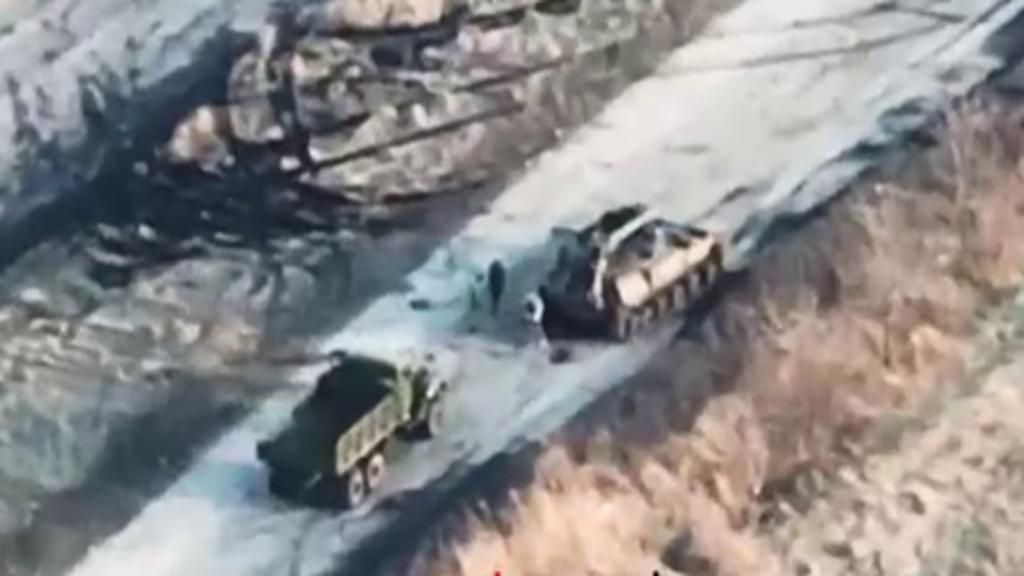APC-IFV: (534, 200, 720, 344)
TRUCK: (250, 346, 436, 503)
